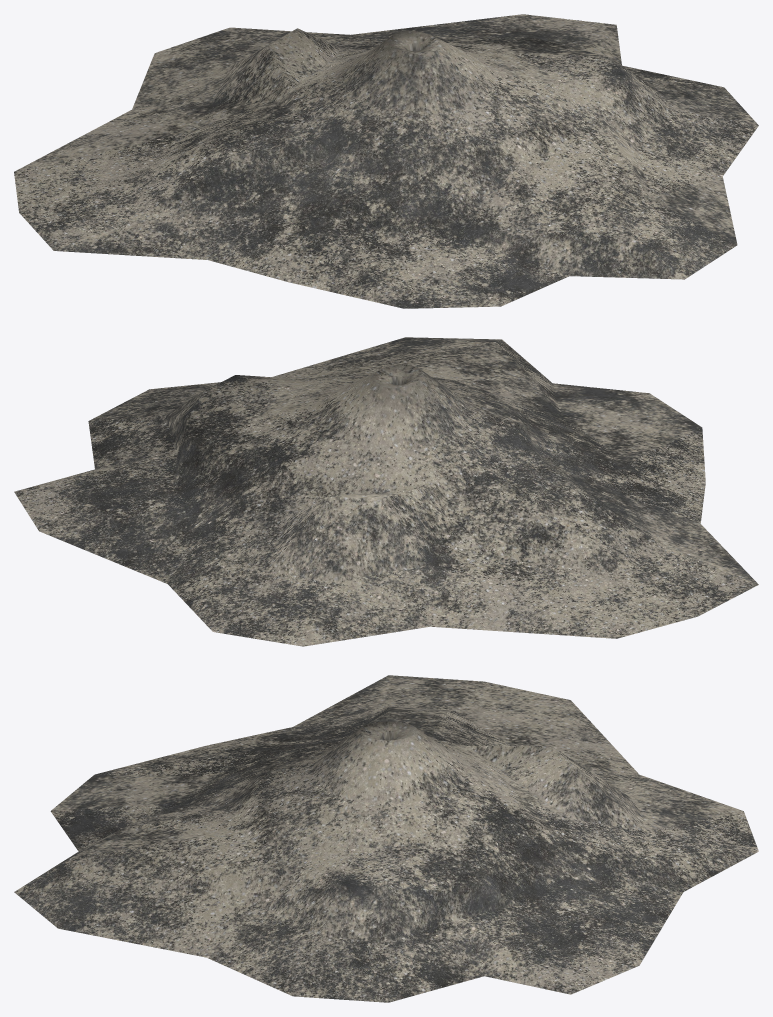
The model's file is ashes.obj.
The picture shows the model from 3 angles, top to bottom: view 1: azimuth 30°, elevation 25°; view 2: azimuth 150°, elevation 25°; view 3: azimuth 270°, elevation 25°; orthographic projection.
Parts seen in each view (by area): view 1: defaultMaterial.006; view 2: defaultMaterial.006; view 3: defaultMaterial.006.
Part boxes in pixels (x1,y1,x2,y2): defaultMaterial.006: (14,14,758,308); defaultMaterial.006: (14,337,758,646); defaultMaterial.006: (14,675,758,1002).
Bounding box in the file's own units: 50.24 × 8.62 × 48.28.
